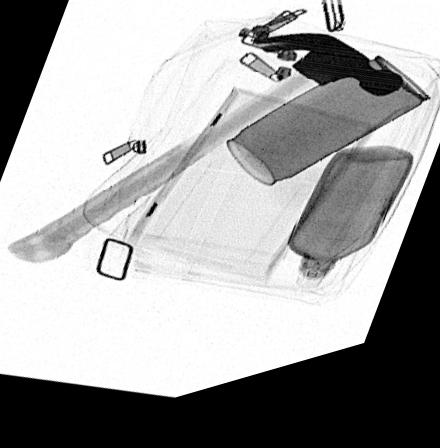Hammer: (5, 49, 405, 264)
